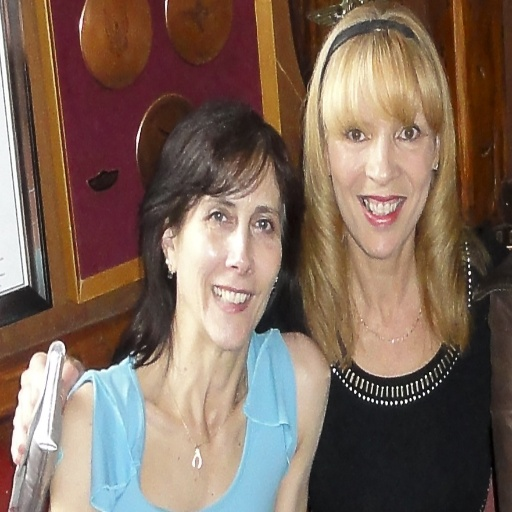hand: (9, 350, 83, 463)
